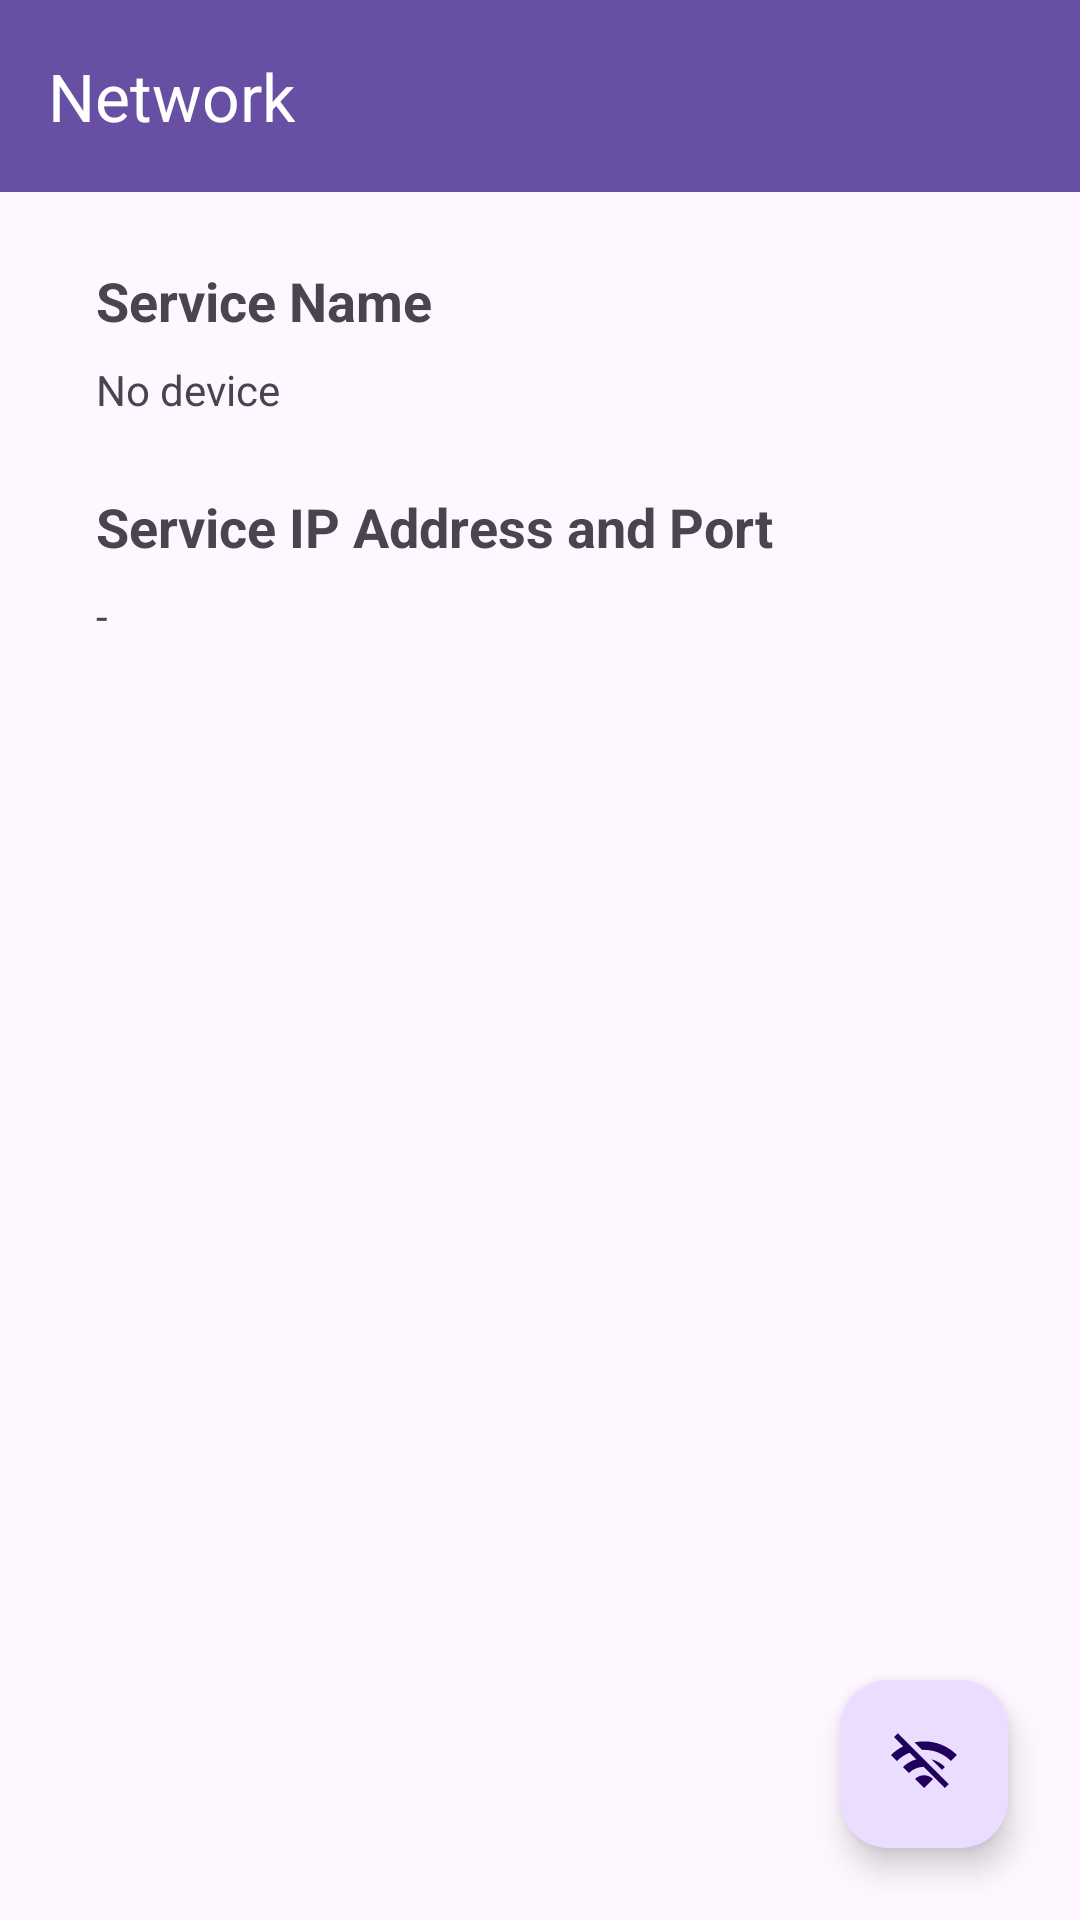

Screen size 1080*1920. Icon name, then its box in pixels as (x1, y1, x2, y2):
Disconnect Raspberry Pi: (840, 1680, 1008, 1848)
